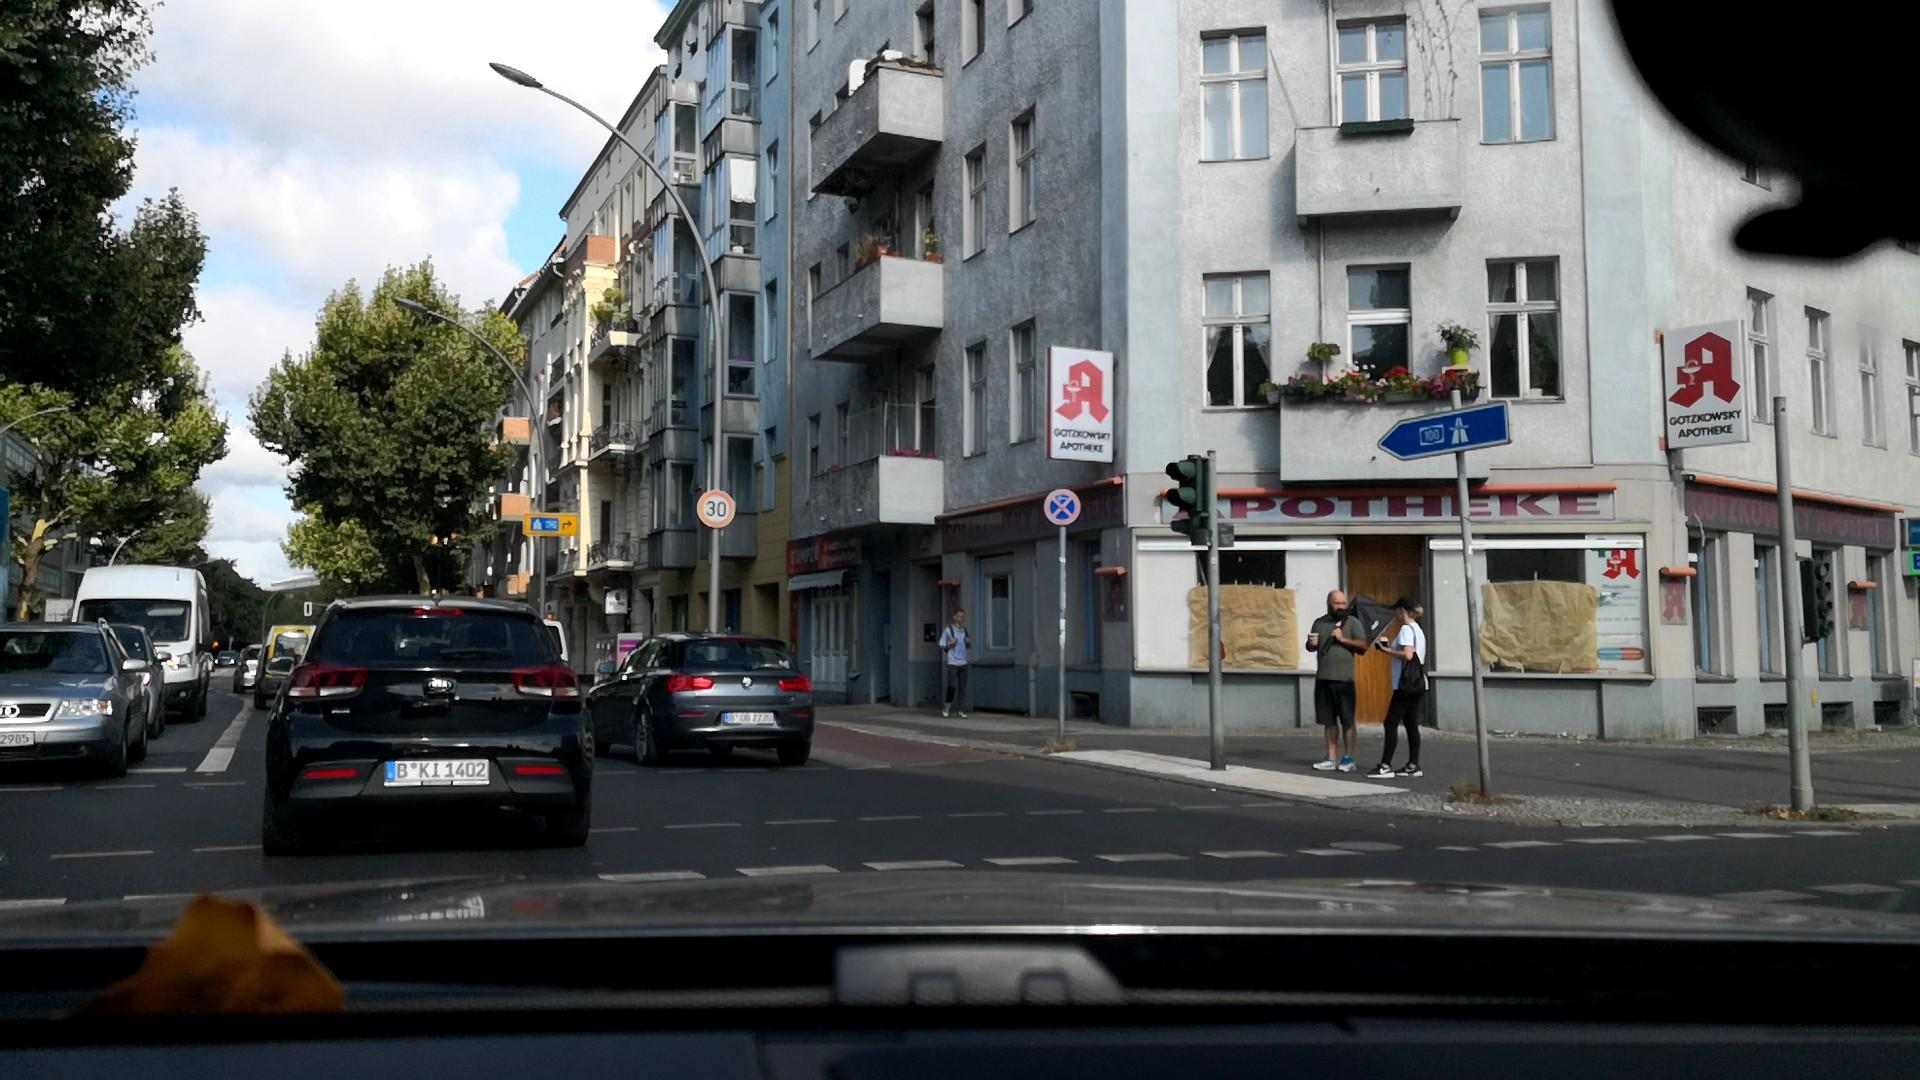Human face: (1328, 591, 1348, 618), (1393, 599, 1414, 624), (953, 611, 965, 626)
Vehicle registration plate: (383, 760, 489, 784), (723, 712, 774, 725), (1, 733, 34, 747)
